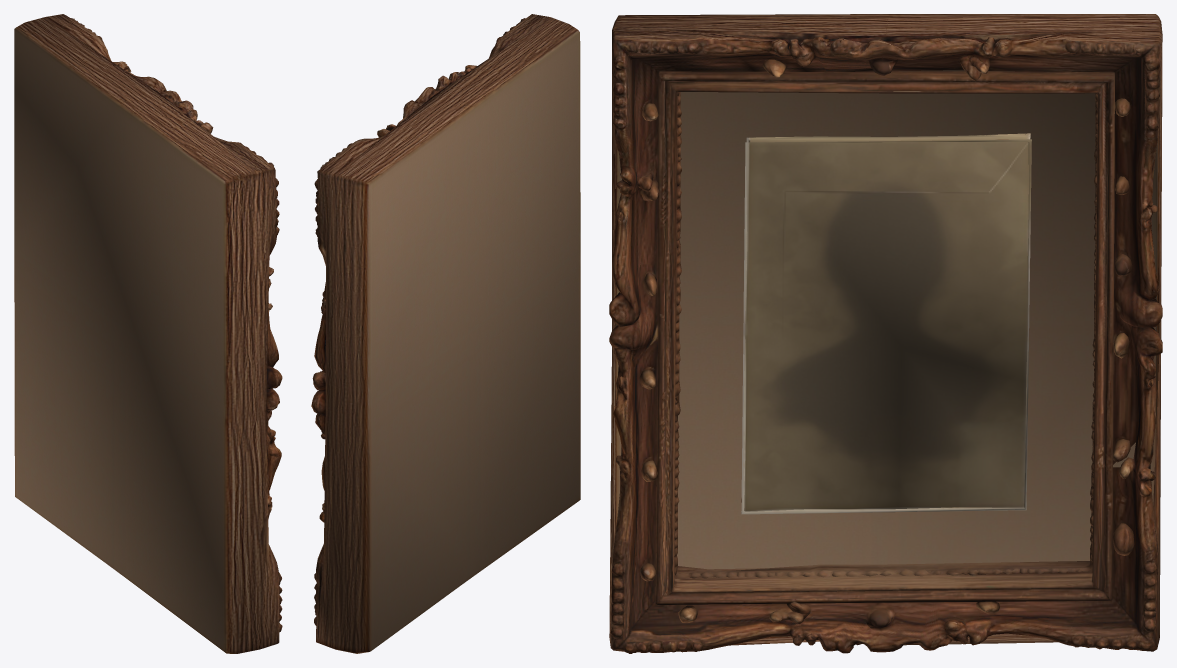
Rendered from prop-portrait-frame-v01.glb.
The picture shows the model from 3 angles, left to right: view 1: azimuth 30°, elevation 25°; view 2: azimuth 150°, elevation 25°; view 3: azimuth 270°, elevation 25°; orthographic projection. The views are drawn at different scales.
Visible parts, largest first — view 1: tripo_node_f13d466e-39aa-4247-b0ff-5d21da86790f; view 2: tripo_node_f13d466e-39aa-4247-b0ff-5d21da86790f; view 3: tripo_node_f13d466e-39aa-4247-b0ff-5d21da86790f.
Part boxes in pixels (box(x1,y1,x2,y2)): tripo_node_f13d466e-39aa-4247-b0ff-5d21da86790f: box(14, 14, 282, 653); tripo_node_f13d466e-39aa-4247-b0ff-5d21da86790f: box(311, 14, 580, 653); tripo_node_f13d466e-39aa-4247-b0ff-5d21da86790f: box(609, 14, 1162, 653).
Bounding box in the file's own units: 0.056 × 0.44 × 0.3608.
1 material, 1 textured.
